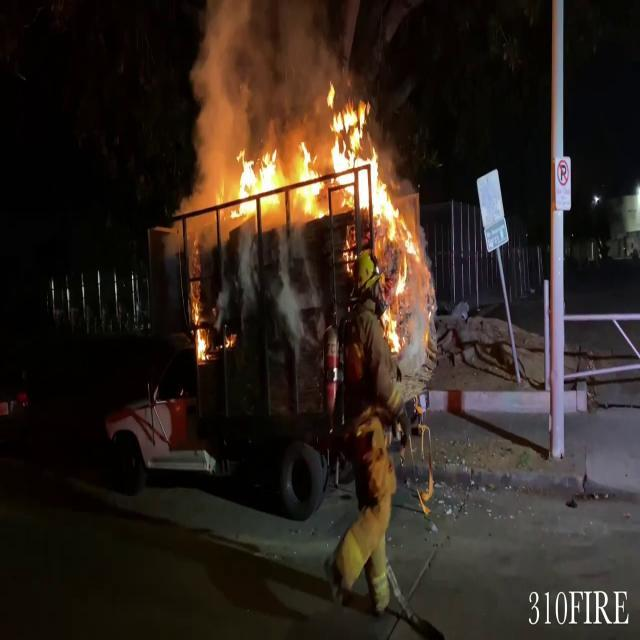Fire: (330, 88, 430, 372), (224, 138, 322, 218), (190, 300, 211, 370)
Smoke: (188, 0, 355, 157)
